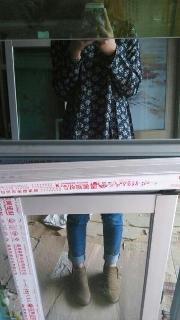long sleeve dress: (49, 12, 143, 152)
trousers: (65, 117, 126, 265)
